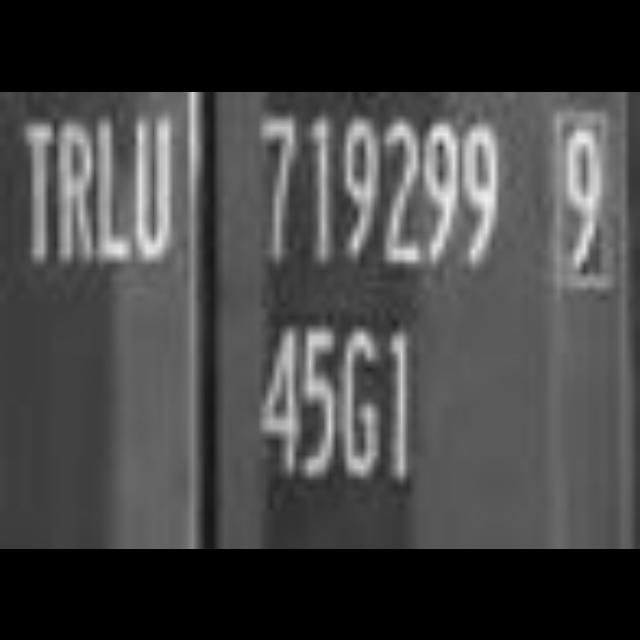1: (302, 108, 336, 270), (384, 319, 414, 486)
2: (384, 109, 424, 275)
4: (258, 320, 304, 482)
5: (302, 322, 338, 484)
7: (254, 110, 302, 266)
9: (461, 110, 503, 274), (340, 108, 380, 270), (564, 120, 604, 280), (422, 113, 458, 273)
g: (340, 320, 384, 486)
l: (96, 113, 138, 267)
r: (56, 114, 100, 262)
t: (17, 114, 58, 264)
u: (134, 111, 174, 269)
